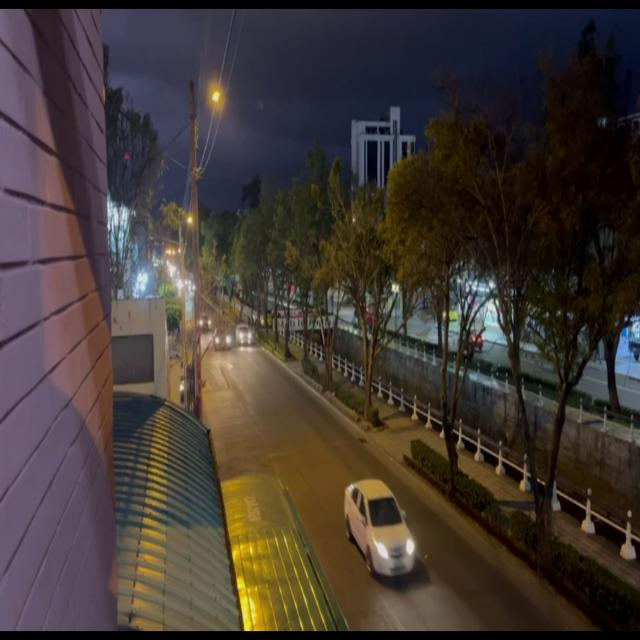SED: (343, 478, 416, 582)
